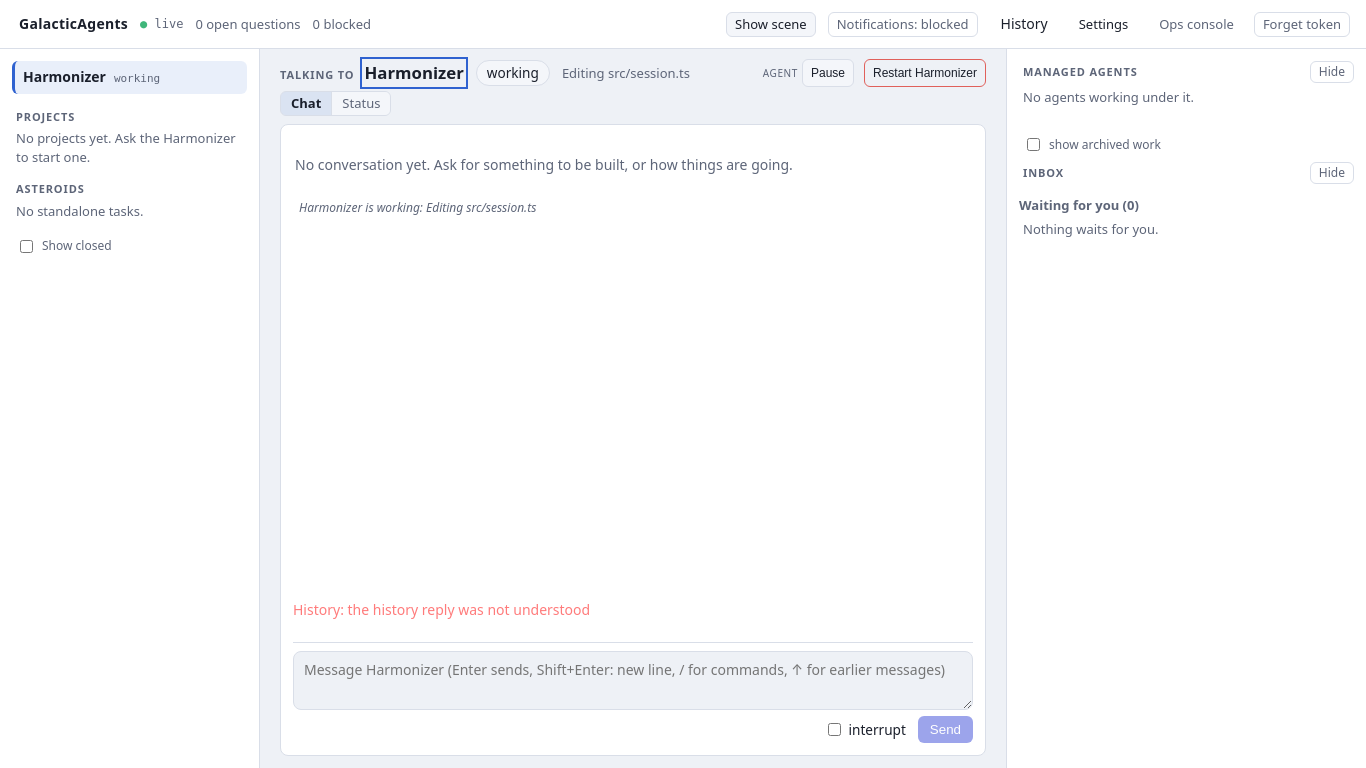
the fps meter from a cold load (P3-11) › is read even when the scene mounts later (list mode first, then "Show scene")
This screenshot has width=1366, height=768.
Expected: the element "solar system" is not shown
What coordinates should you click on to do the following:
click the button "Show scene"
I would click on:
 (771, 24)
Its box is [726,12,816,36].
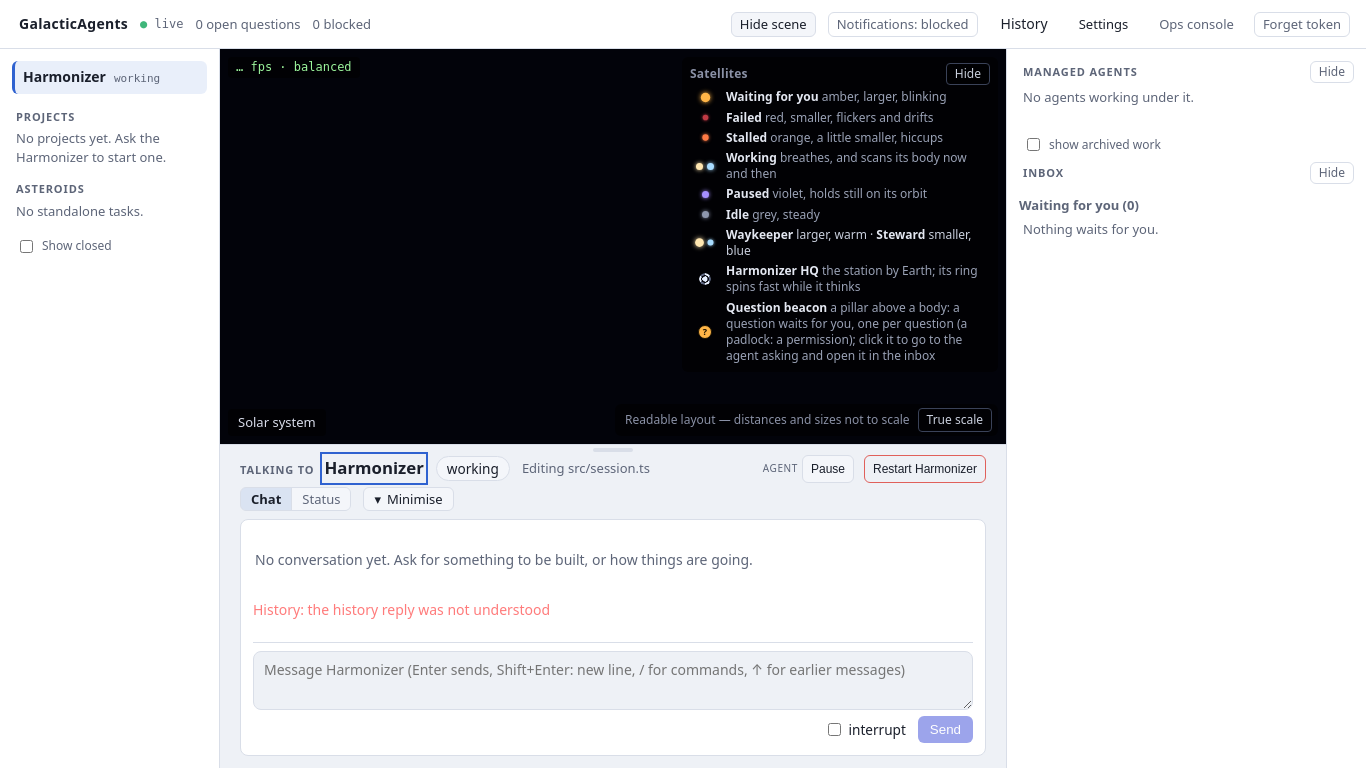
Result: the text named "frame rate" is shown at [228,57,360,78]
